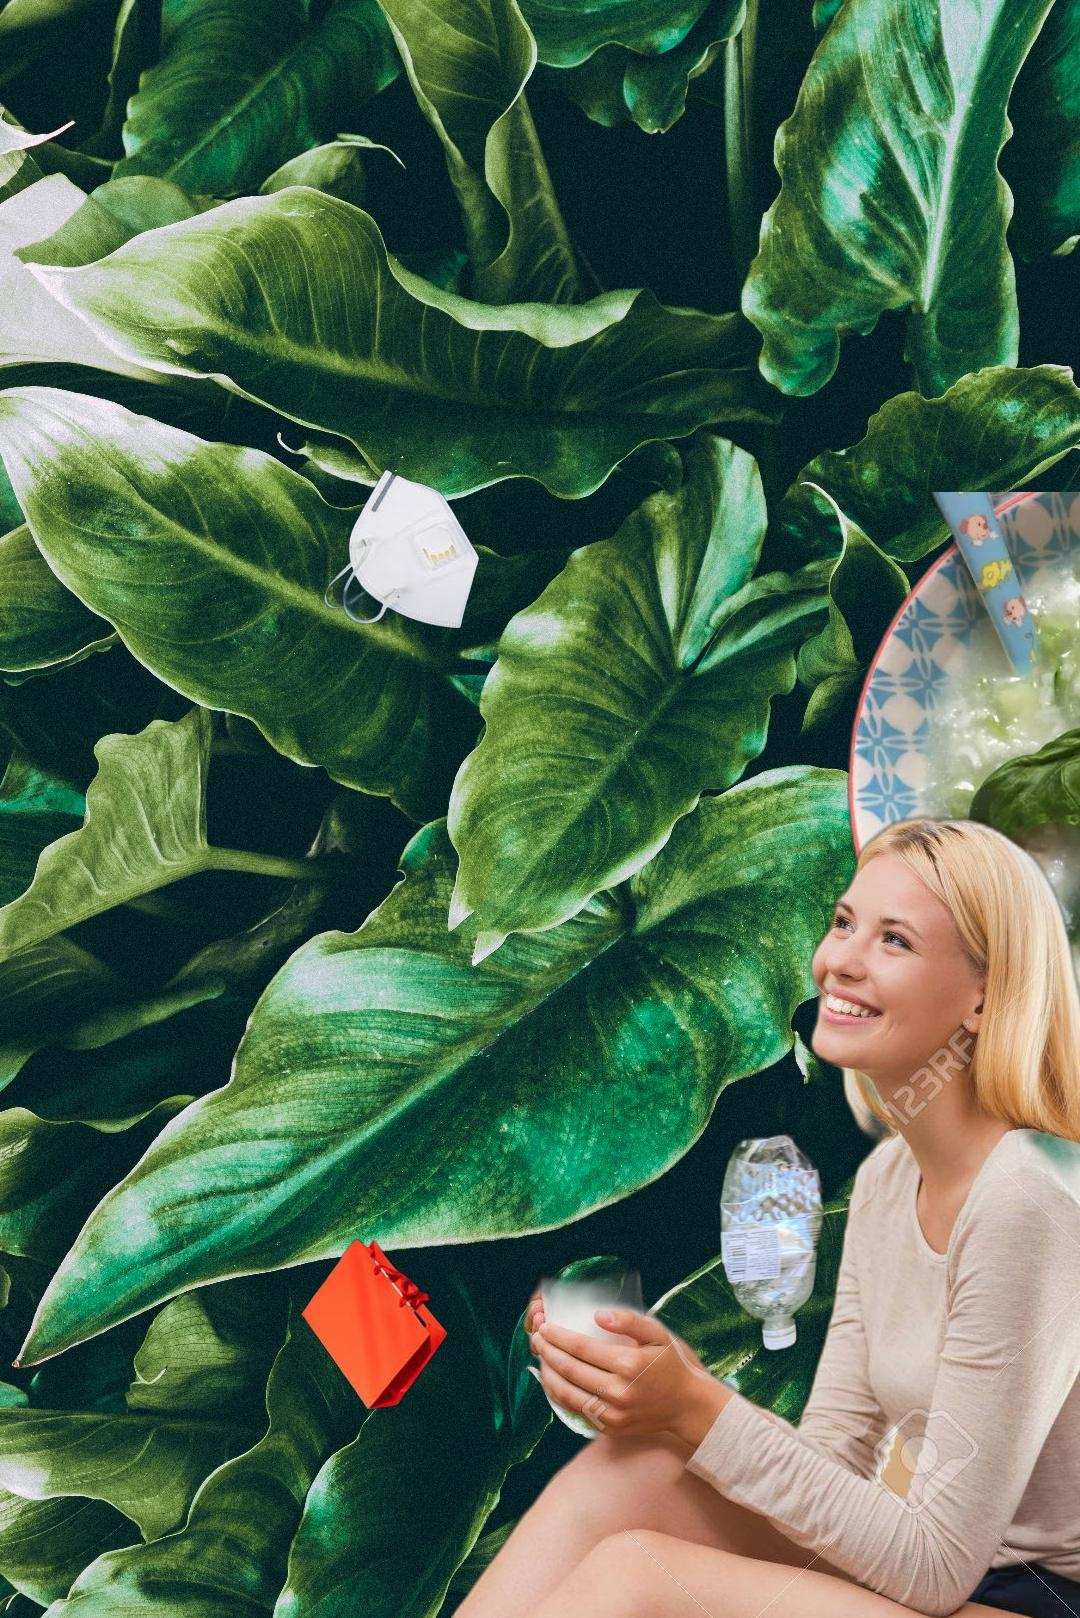biological: (840, 492, 1080, 1092)
paper-bag: (300, 1236, 450, 1412)
plastic-bottles: (715, 849, 1080, 1502)
trash: (319, 467, 482, 631)
trashbox-cardboard: (451, 806, 1080, 1618)
